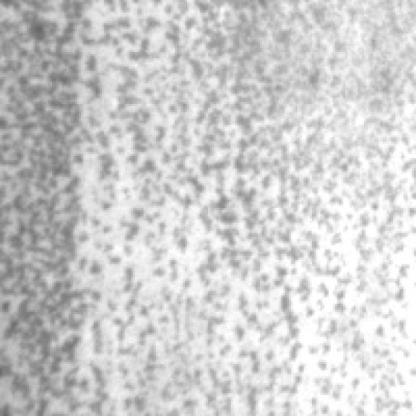pitted_surface: (2, 0, 416, 410)
